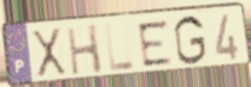4: (214, 12, 241, 62)
E: (135, 18, 175, 69)
G: (172, 14, 208, 67)
H: (64, 22, 105, 77)
L: (103, 22, 137, 74)
X: (29, 26, 69, 80)
